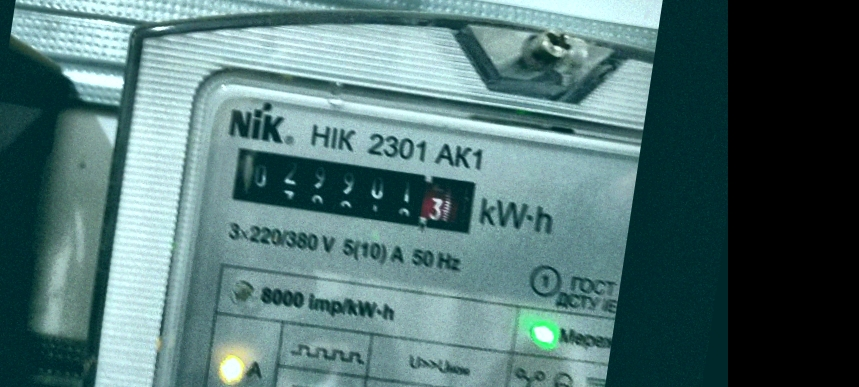0: (249, 159, 270, 189), (367, 171, 387, 202)
1: (398, 174, 415, 204)
2: (279, 158, 301, 187)
3: (425, 194, 445, 222)
9: (309, 162, 329, 191), (339, 168, 356, 196)
screen: (220, 136, 488, 245)
